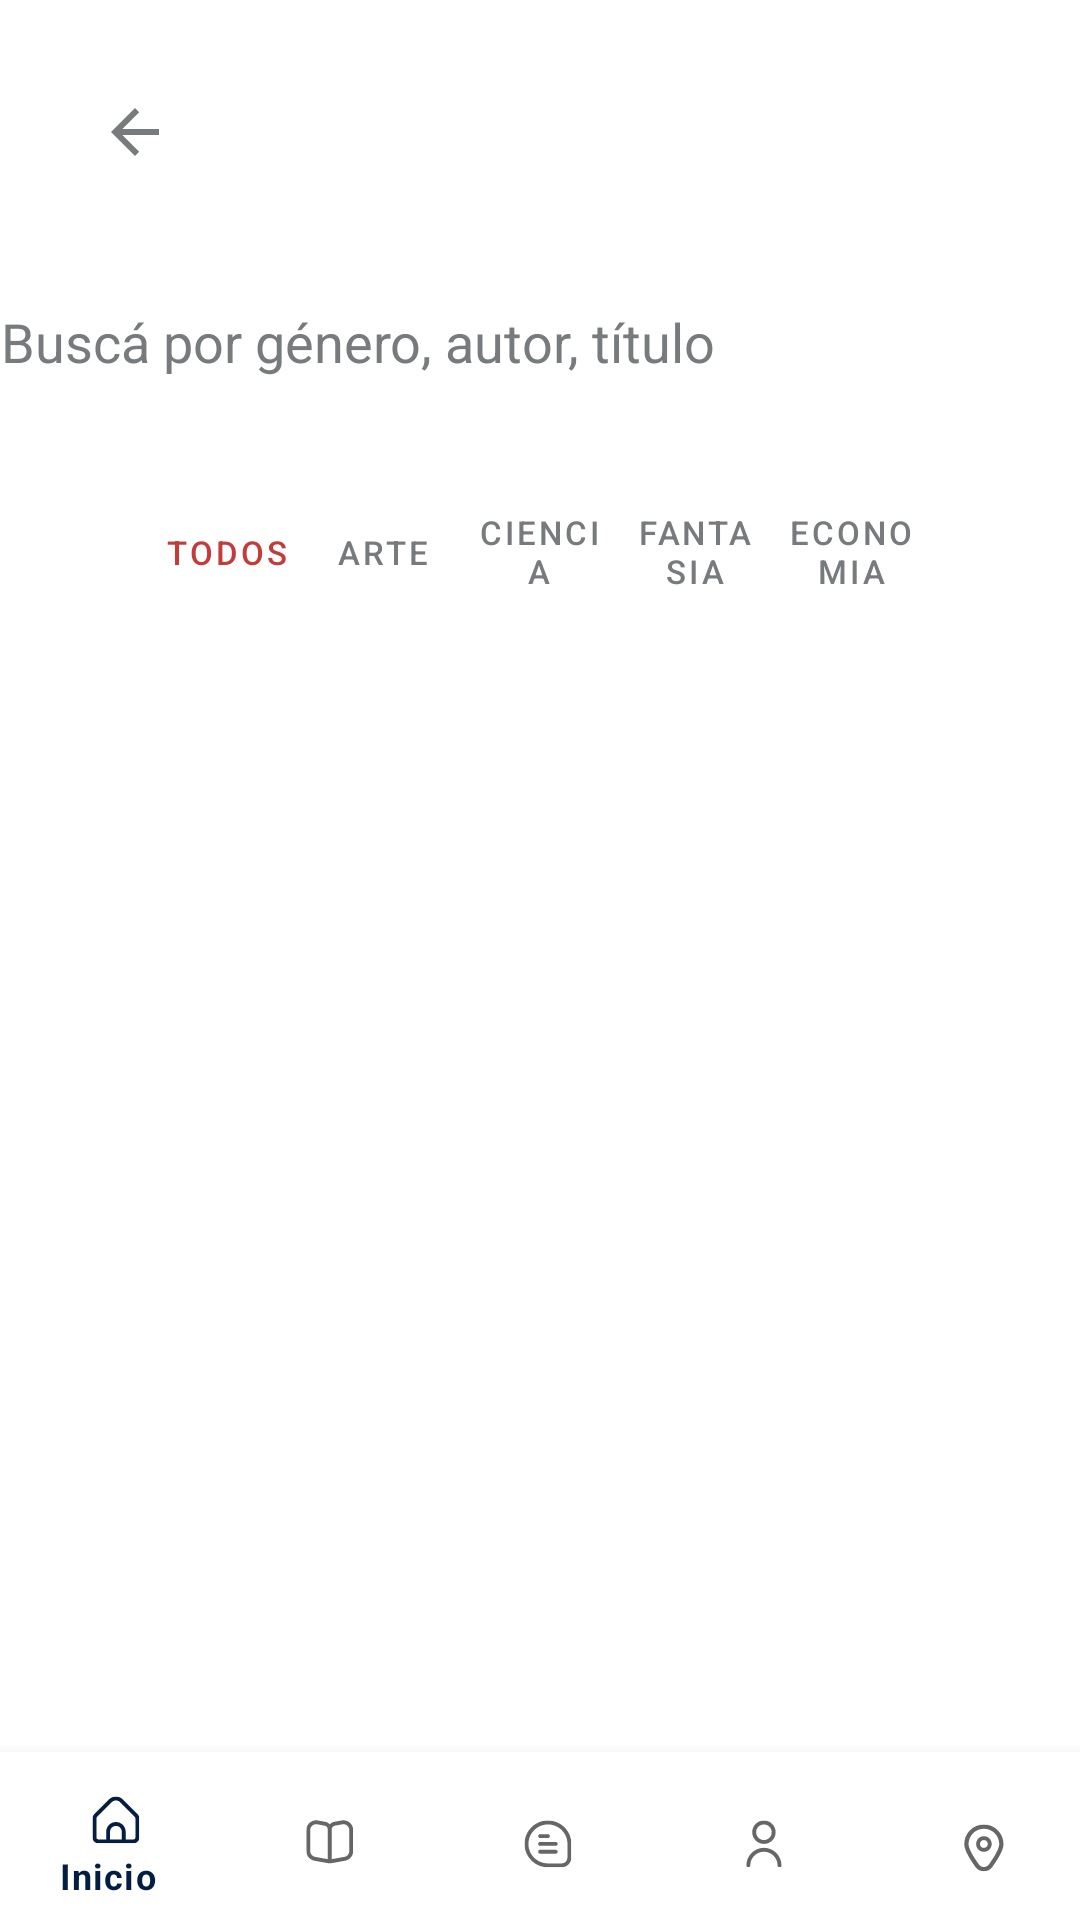

Where to tap for icons on this 1080w x 1920h app screen, as point (x, y):
Volver hacia atrás: point (135, 132)
